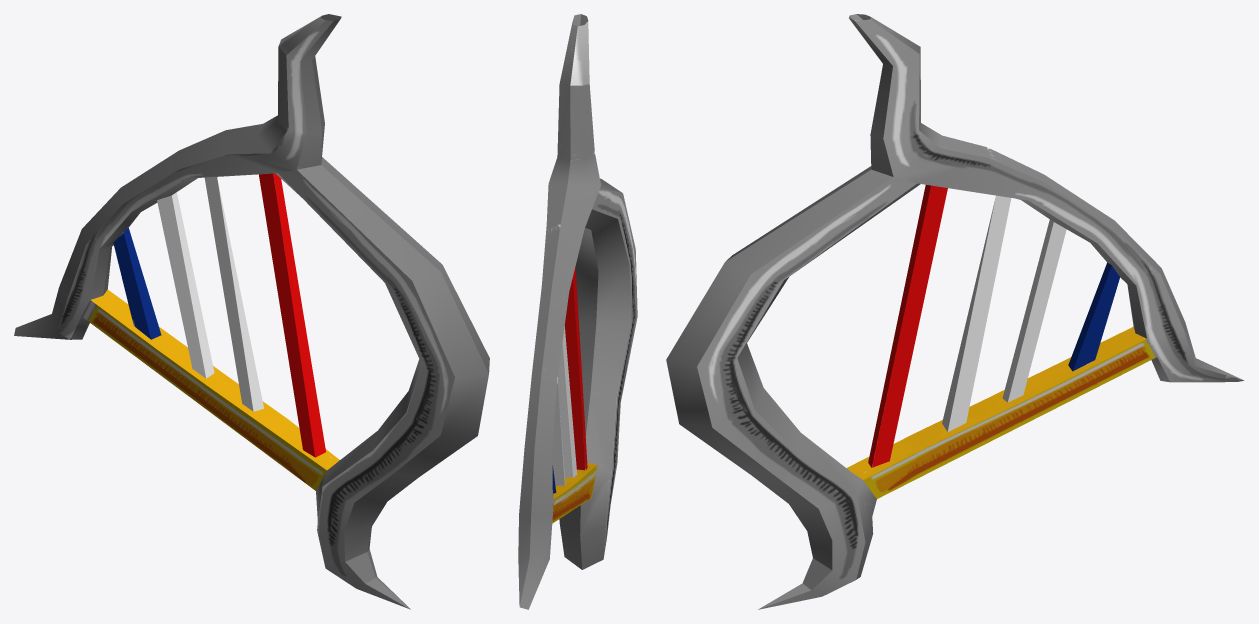
Rendered from Arpa1_000010.obj.
3 views of the same model, side by side, from view 1: azimuth 30°, elevation 25°; view 2: azimuth 150°, elevation 25°; view 3: azimuth 270°, elevation 25° (orthographic). The views are drawn at different scales.
Visible parts, largest first — view 1: a1_pCube7.001; view 2: a1_pCube7.001; view 3: a1_pCube7.001.
Boxes of the visible parts, <box> form: a1_pCube7.001: <box>14,14,489,609</box>; a1_pCube7.001: <box>518,14,637,609</box>; a1_pCube7.001: <box>666,14,1243,609</box>.
Bounding box in the file's own units: 4 × 10.17 × 9.22.
